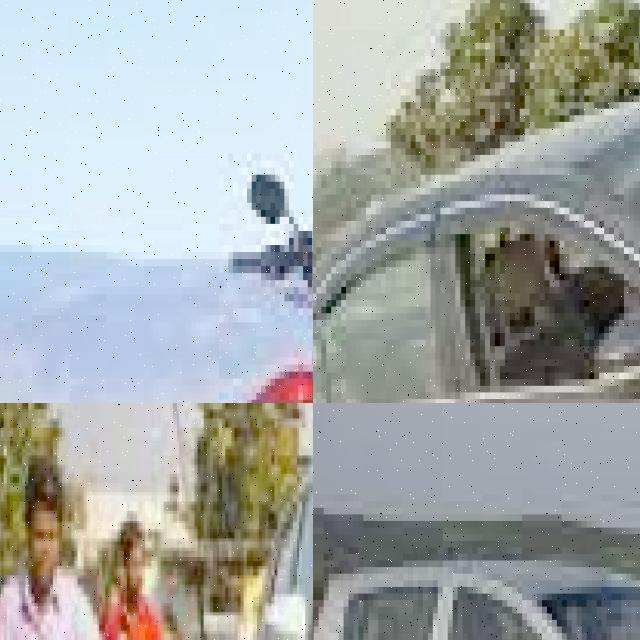bike: (0, 322, 313, 403)
car: (313, 69, 640, 403), (313, 501, 640, 640), (203, 403, 313, 640)
